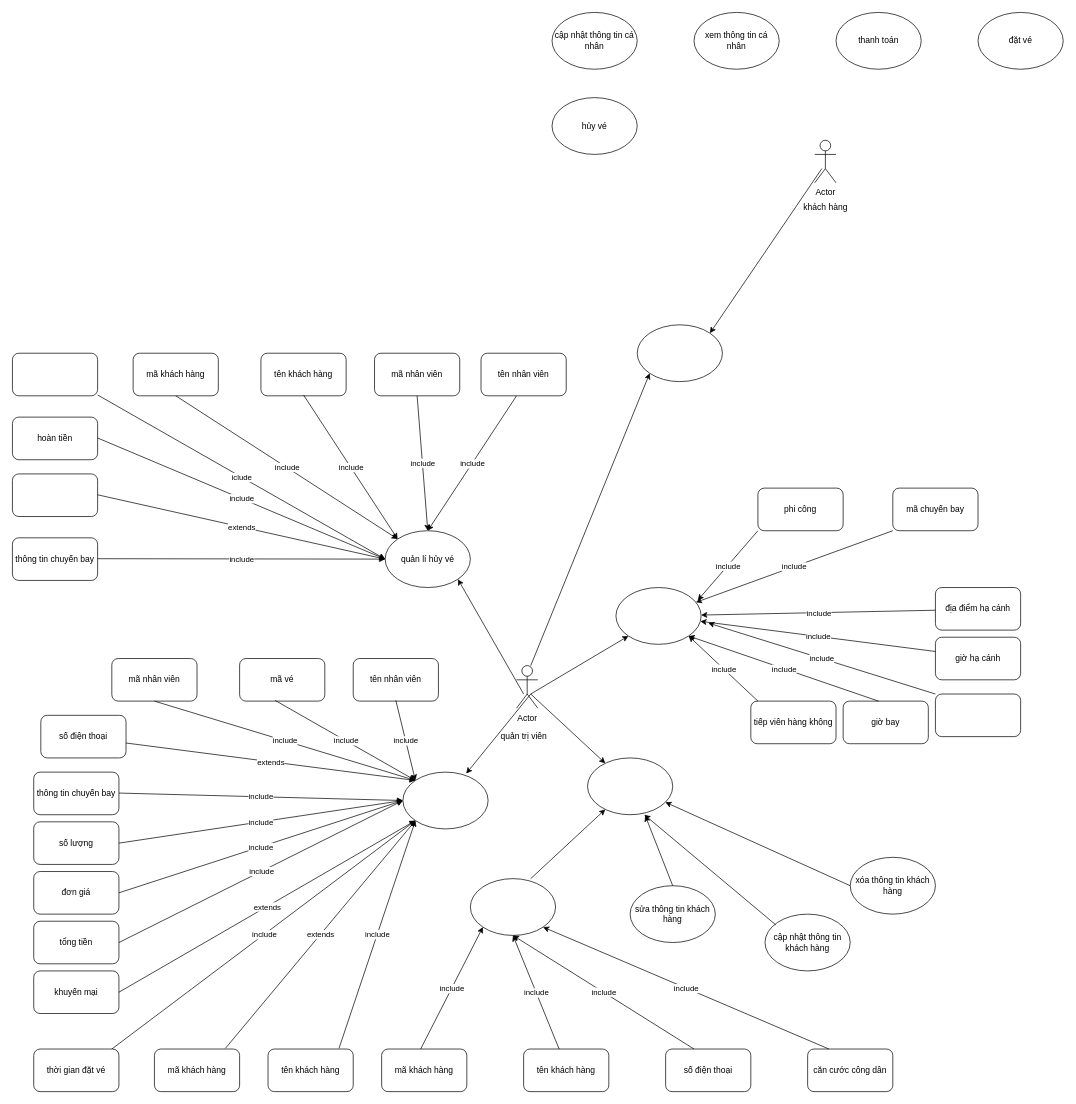
Some shapes in this 1076 by 1104 pixel diagram are drawn without their labels. Each missing label, with the centre of its shape:
"lí do hủy" goes at pixel 55 495.
"quản lí khách hàng" goes at pixel 630 786.
"quản lí thông tin chuyến bay" goes at pixel 658 615.
"quản lí đặt vé" goes at pixel 445 800.
"số hành khách" goes at pixel 978 715.
"thời gian hủy vé" goes at pixel 55 374.
"xem thông tin khách hàng" goes at pixel 513 906.
"đăng nhập" goes at pixel 679 353.
